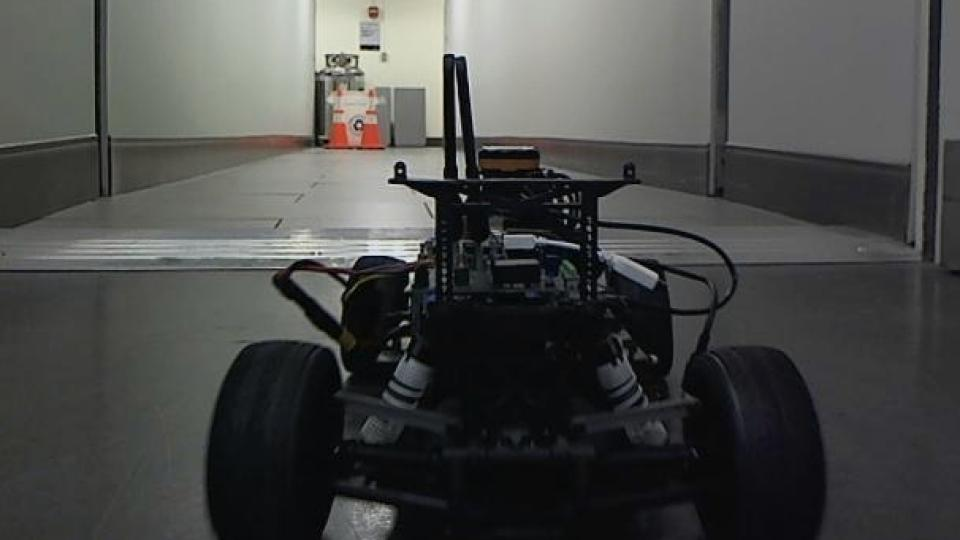car: (201, 51, 830, 540)
